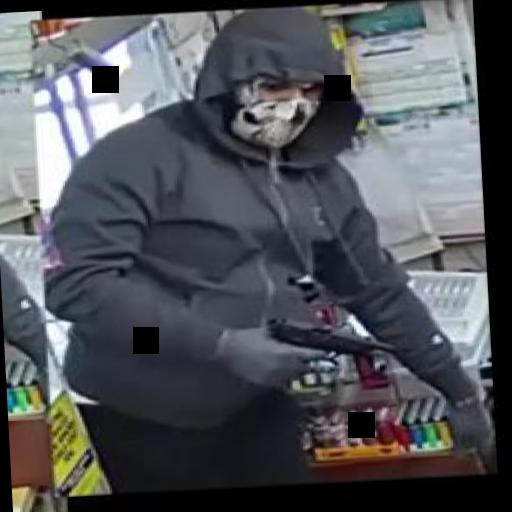Handgun: (254, 308, 404, 392)
